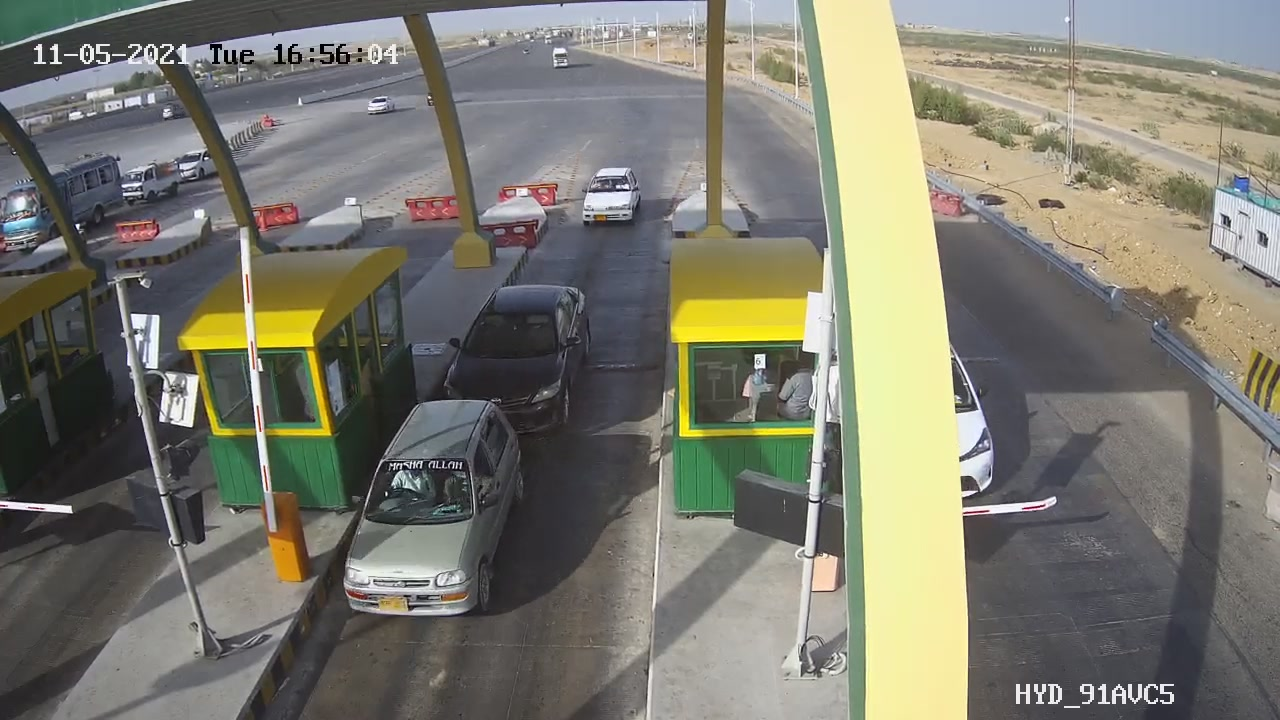F1: (323, 381, 546, 642), (422, 272, 611, 454), (572, 159, 650, 232)
